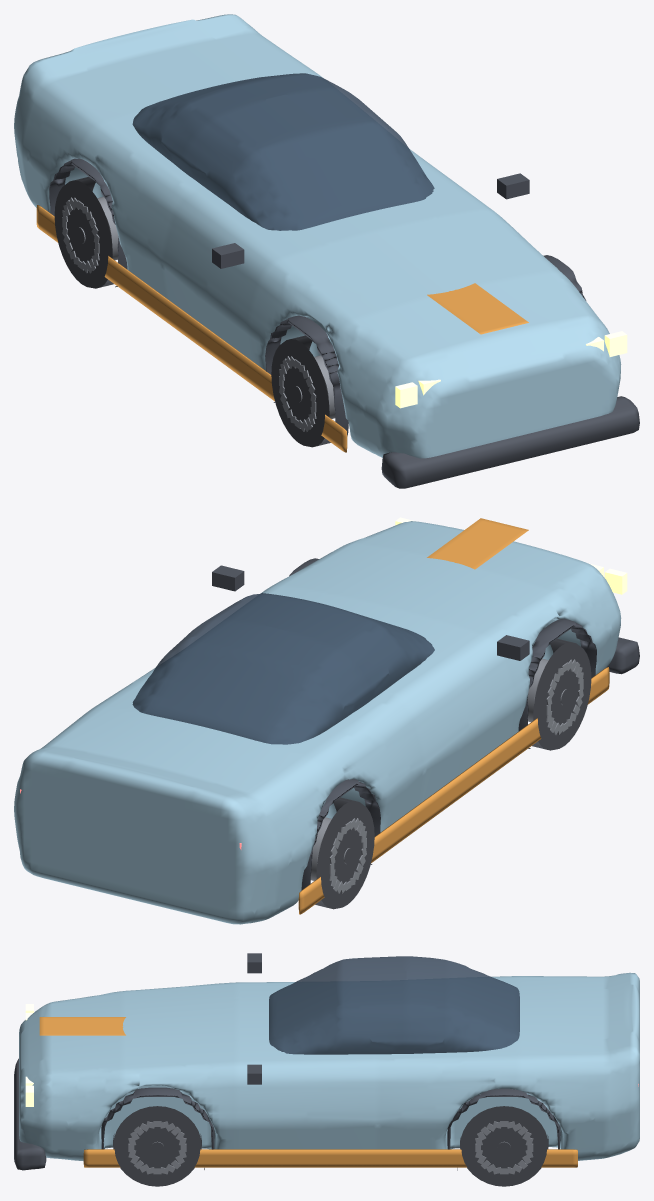
The model's file is legacy_gtr.glb.
The picture shows the model from 3 angles, top to bottom: view 1: azimuth 30°, elevation 25°; view 2: azimuth 150°, elevation 25°; view 3: azimuth 270°, elevation 25°; orthographic projection. The views are drawn at different scales.
Parts seen in each view (by area): view 1: Bodywork, CanopyGlass, CarbonAero (×2), TireRubber, AccentLivery, ForgedRim, HeadlightLED; view 2: Bodywork, CanopyGlass, TireRubber, AccentLivery, CarbonAero (×2), ForgedRim, HeadlightLED; view 3: Bodywork, CanopyGlass, TireRubber, AccentLivery, CarbonAero (×2), ForgedRim, HeadlightLED.
Boxes of the visible parts, left/top/right/bottom form: Bodywork: left=14, top=14, right=621, bottom=458; CanopyGlass: left=132, top=73, right=434, bottom=230; CarbonAero (×2): left=49, top=158, right=639, bottom=488; TireRubber: left=54, top=177, right=330, bottom=447; AccentLivery: left=36, top=205, right=528, bottom=452; ForgedRim: left=62, top=196, right=335, bottom=431; HeadlightLED: left=395, top=331, right=627, bottom=408; Bodywork: left=14, top=521, right=621, bottom=924; CanopyGlass: left=132, top=593, right=434, bottom=744; TireRubber: left=315, top=638, right=591, bottom=909; AccentLivery: left=298, top=518, right=609, bottom=914; CarbonAero (×2): left=212, top=558, right=639, bottom=889; ForgedRim: left=310, top=658, right=583, bottom=893; HeadlightLED: left=395, top=517, right=627, bottom=594; Bodywork: left=19, top=972, right=639, bottom=1161; CanopyGlass: left=269, top=956, right=519, bottom=1054; TireRubber: left=113, top=1106, right=548, bottom=1186; AccentLivery: left=39, top=1017, right=577, bottom=1167; CarbonAero (×2): left=14, top=953, right=560, bottom=1170; ForgedRim: left=128, top=1121, right=533, bottom=1174; HeadlightLED: left=25, top=1004, right=33, bottom=1106.
Bounding box in the file's own units: 2.12 × 1.32 × 4.66.
